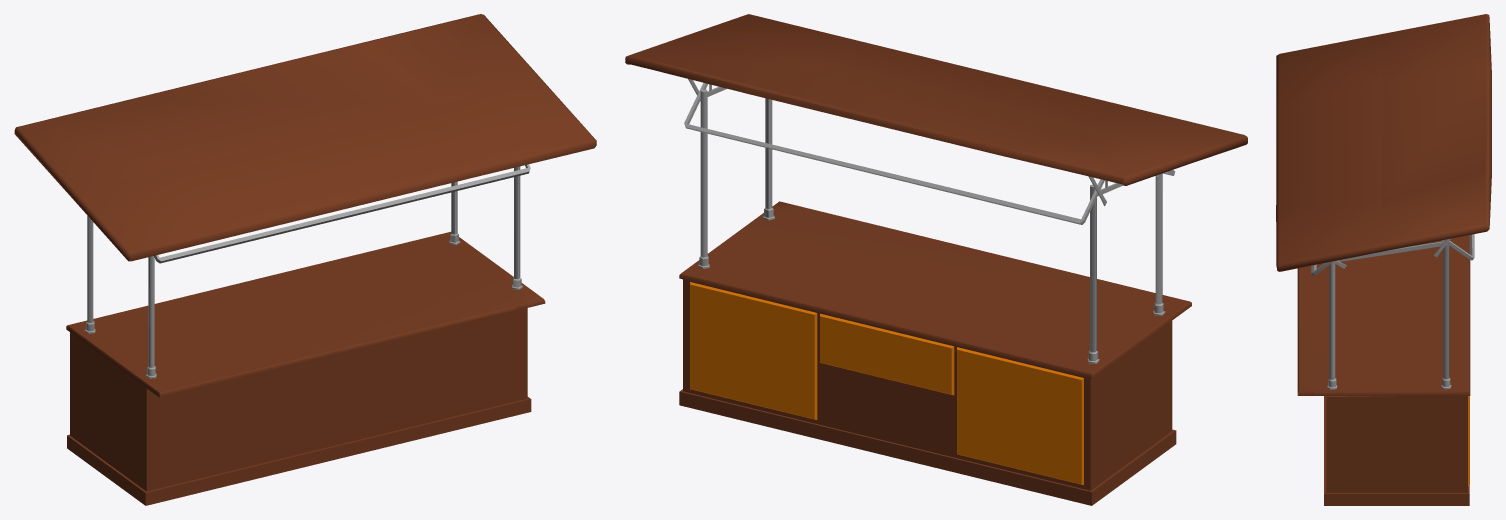
The model's file is Shop.fbx.
The picture shows the model from 3 angles, left to right: view 1: azimuth 30°, elevation 25°; view 2: azimuth 150°, elevation 25°; view 3: azimuth 270°, elevation 25°; orthographic projection. The views are drawn at different scales.
Visible parts, largest first — view 1: city_stall01; view 2: city_stall01; view 3: city_stall01.
Part boxes in pixels (left/top/right/bottom): city_stall01: left=14, top=14, right=596, bottom=505; city_stall01: left=625, top=14, right=1247, bottom=505; city_stall01: left=1276, top=14, right=1491, bottom=505.
Bounding box in the file's own units: 54.21 × 35.79 × 23.34.
